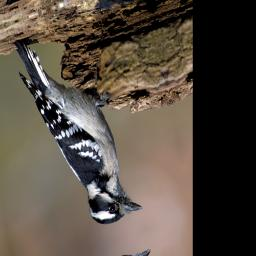Woodpecker: (11, 7, 144, 248)
